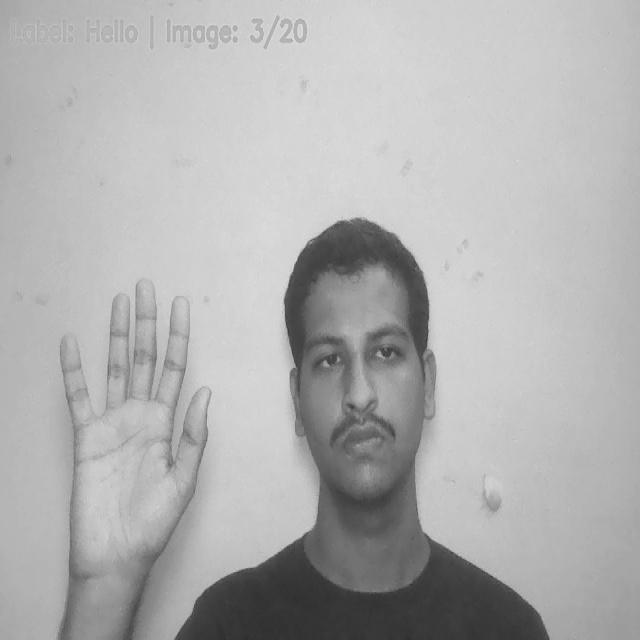Hello: (56, 271, 212, 578)
